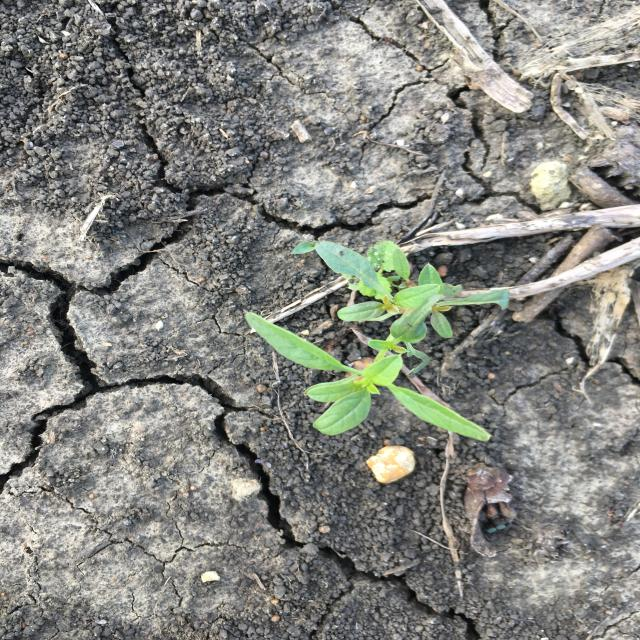Waterhemp: (242, 236, 513, 444)
